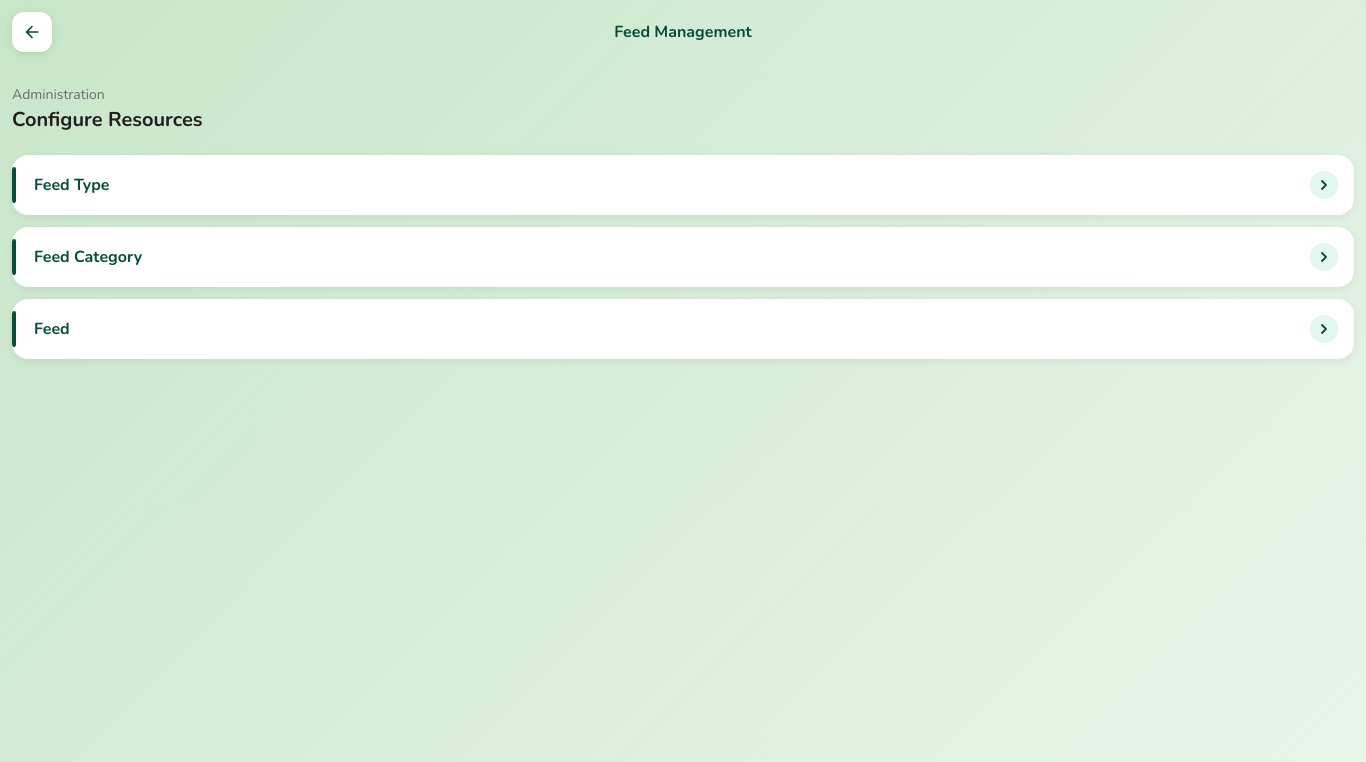
Admin Feeds — Feed CRUD modal › a duplicate-name rejection shows the backend message and keeps the sheet open
This screenshot has width=1366, height=762.
Click the button "Feed" at (52, 329), box [12, 299, 1354, 359]
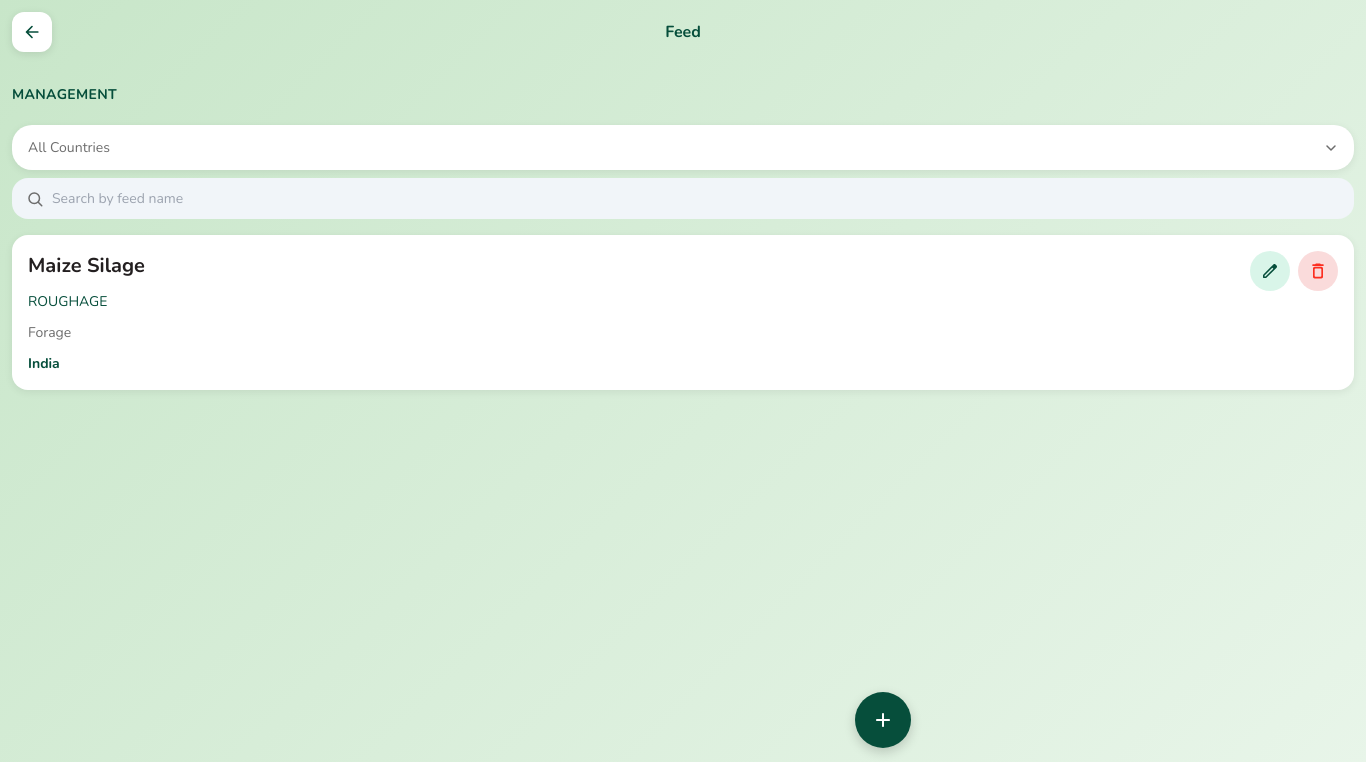
expect the text "Maize Silage" is shown: met, box [28, 252, 145, 279]
Click the button named "Edit feed" at (1270, 271), box [1250, 251, 1290, 291]
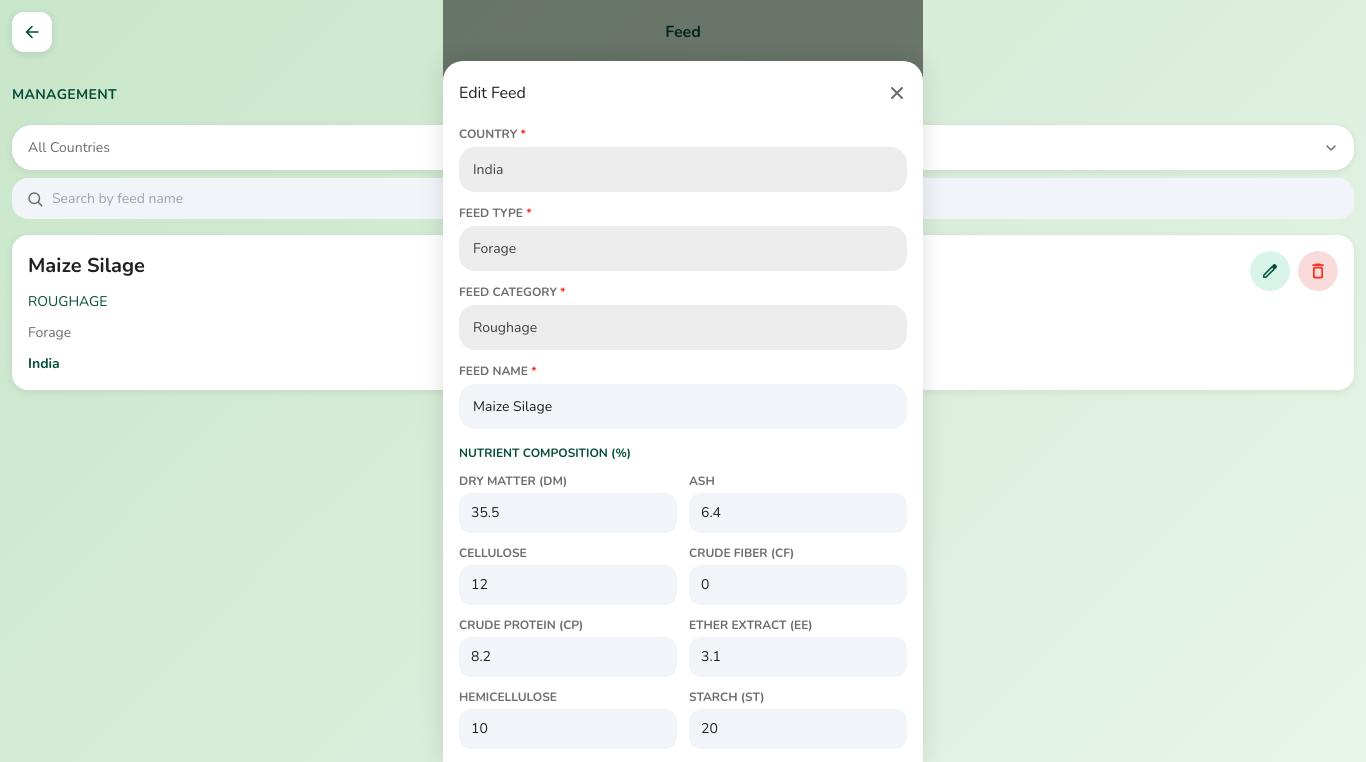
Replace the text in the field named "Feed Name" with "napier  grass" at (683, 407), box [459, 384, 907, 430]
(page scrolled)
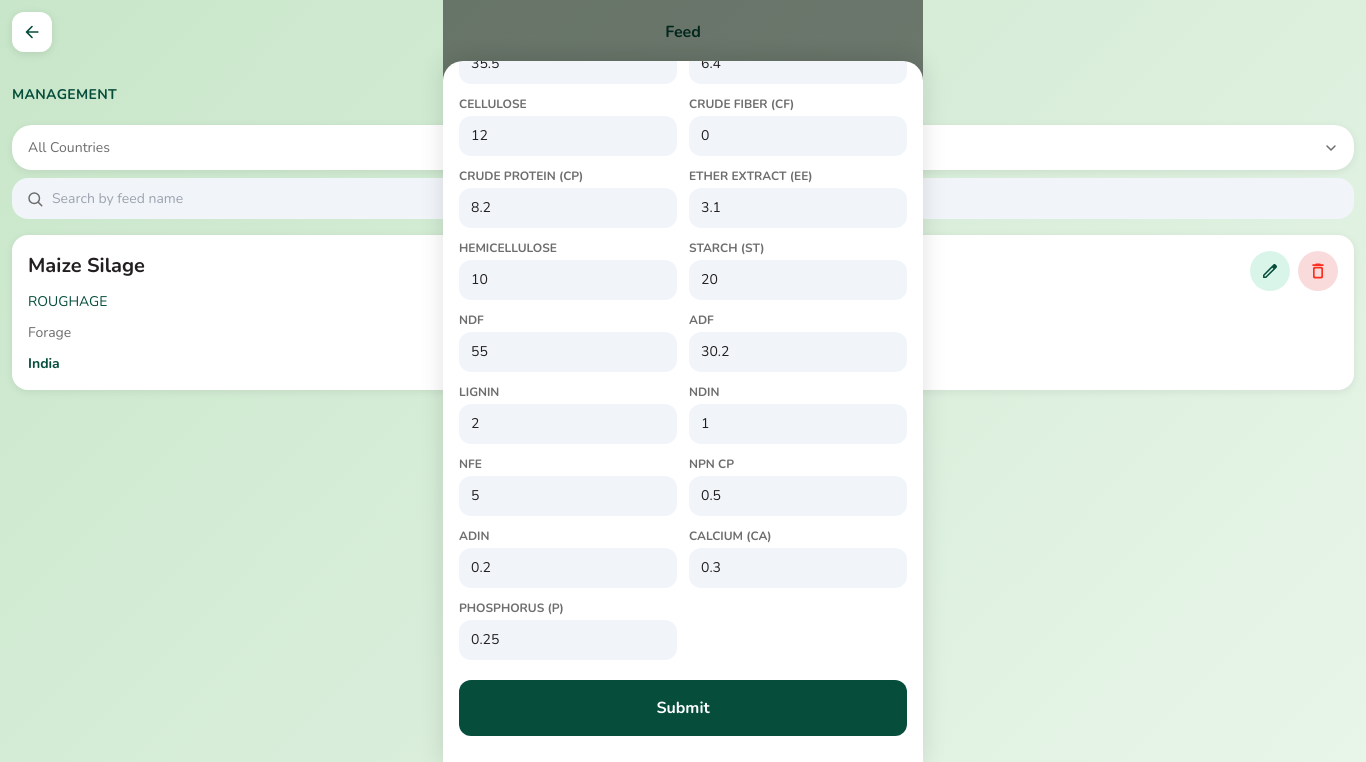
Click the button "Submit" at (683, 708), box [459, 680, 907, 736]
(page scrolled)
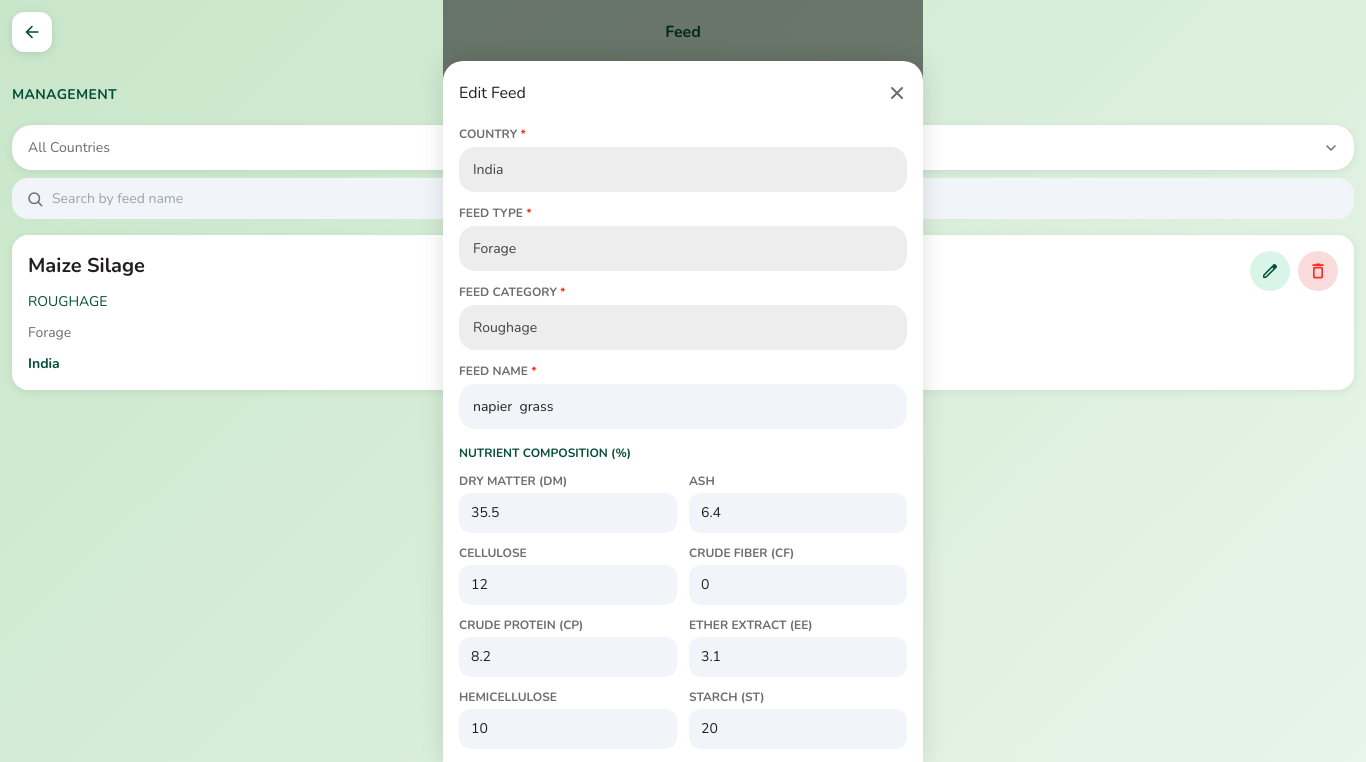
expect the heading "Edit Feed" is shown: met, box [459, 82, 526, 106]
